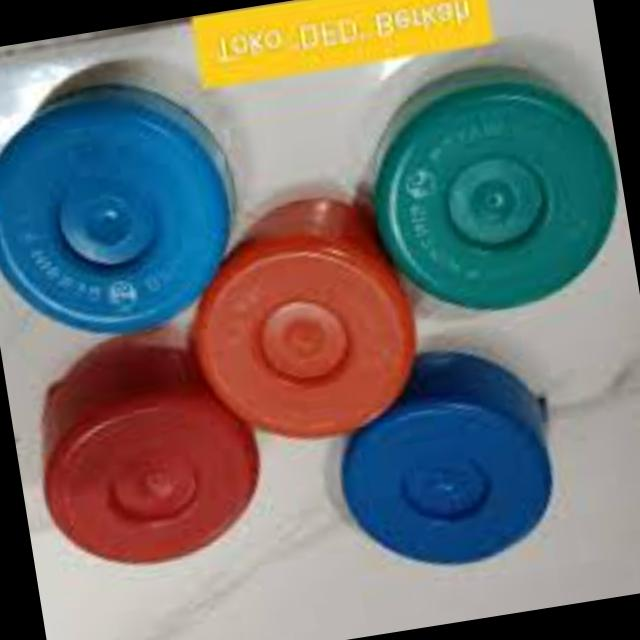TutupGalon: (361, 54, 638, 329), (0, 67, 261, 350), (184, 194, 431, 457), (28, 320, 271, 581), (334, 355, 583, 584)
